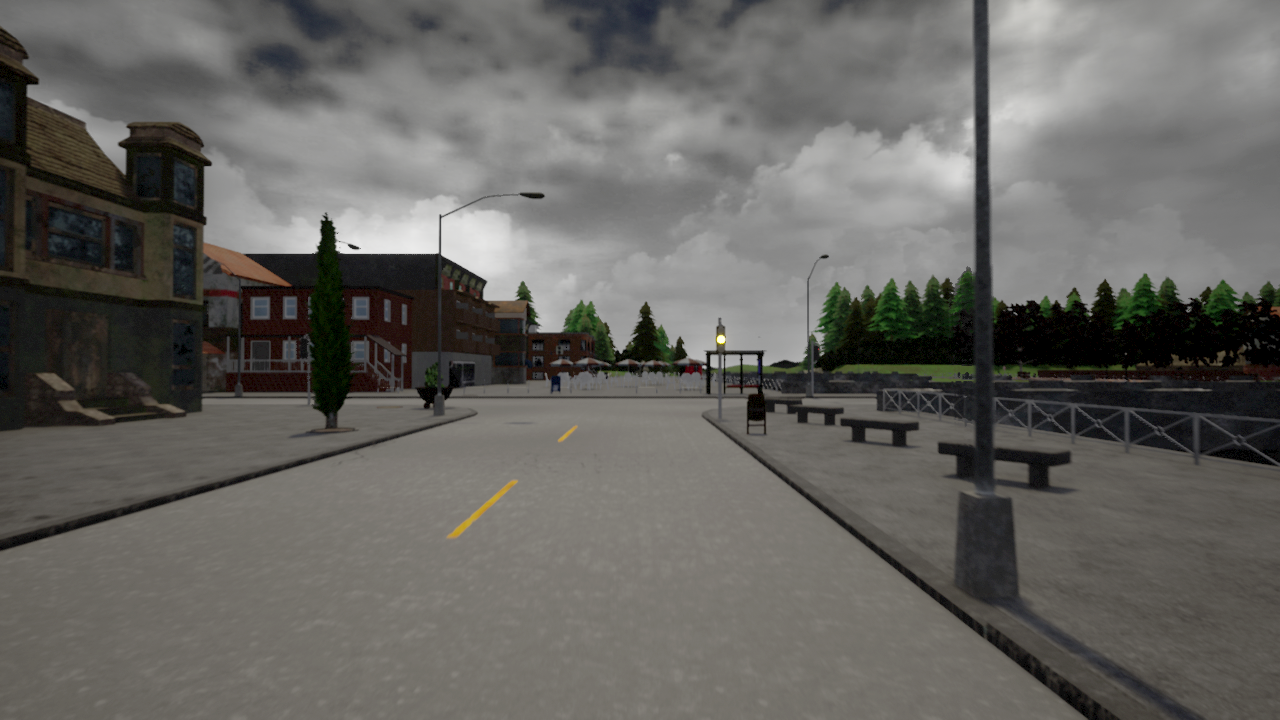yellow: (715, 324, 727, 354)
